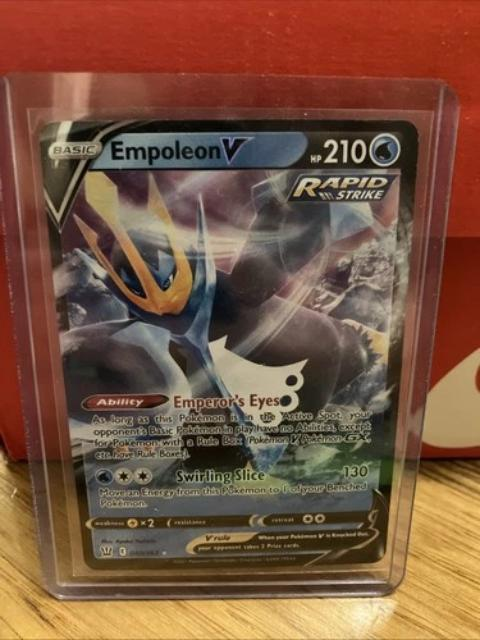Card: (32, 109, 420, 571)
Name: (105, 132, 257, 164)
